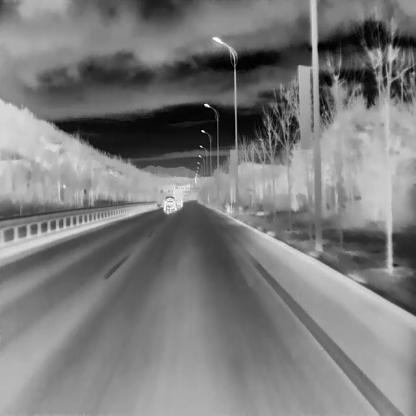car: (162, 195, 177, 212), (172, 188, 182, 206)
